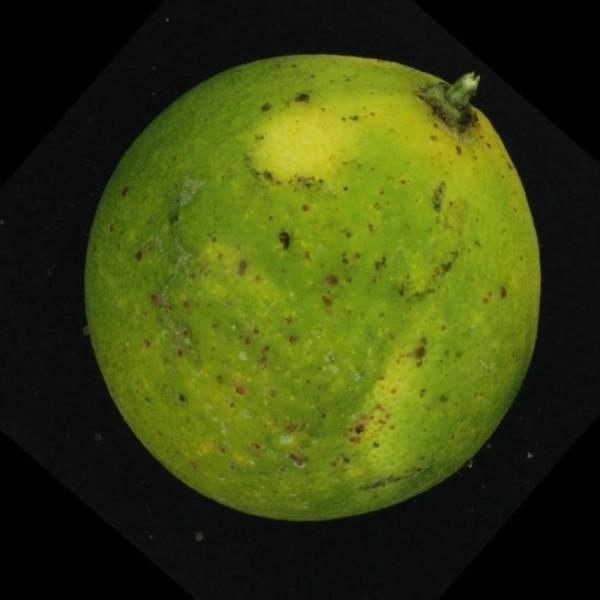Greening: (77, 46, 552, 532)
